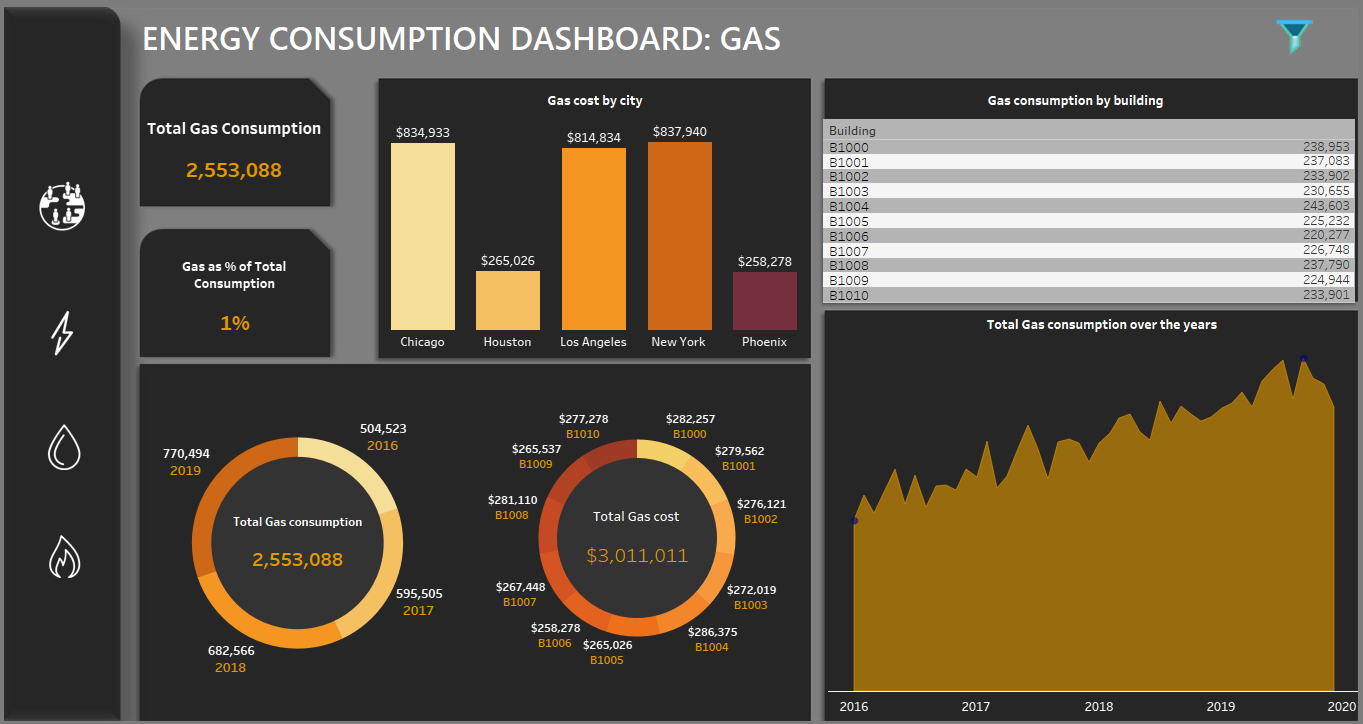

The dashboard page shown, as its layout file describes it:
{"tool":"tableau","page":{"name":"Dashboard 4","canvas":[1366,720],"ordinal":3},"visuals":[{"type":"image","param":"Image/ignite bg ener 2.jpg","box":[0,0,1366,720]},{"type":"text","box":[141,3,765,60]},{"type":"dashboard-object","box":[1268,11,56,42]},{"type":"filter","title":"gas cost by city (3)","param":"[federated.14768py0nmov6b1293c7i02sff1x].[none:City:nk]","box":[1171,49,160,157]},{"type":"text","box":[457,74,280,44]},{"type":"text","box":[835,81,485,30]},{"type":"worksheet","title":"total gas cosm (3)","mark":"Automatic","box":[142,90,189,113]},{"type":"worksheet","title":"gas cost by city (3)","mark":"Automatic","rows":["Total Gas cost"],"cols":["City"],"box":[382,112,429,240]},{"type":"worksheet","title":"Sheet 12 (2)","mark":"Automatic","rows":["Building"],"box":[825,115,532,184]},{"type":"dashboard-object","box":[11,176,106,52]},{"type":"worksheet","title":"gascosm  per (2)","mark":"Automatic","box":[141,233,192,120]},{"type":"text","box":[893,299,422,42]},{"type":"dashboard-object","box":[15,303,104,52]},{"type":"worksheet","title":"gas trend (2)","mark":"Area","rows":["Gas Consumption","min max ele cons (copy)_1465640238118576131"],"cols":["Date"],"box":[830,335,530,382]},{"type":"worksheet","title":"gas cst (3)","mark":"Pie","rows":["Calculation_1600185276623892486","Calculation_1600185276623892486"],"box":[465,356,348,356]},{"type":"worksheet","title":"Gas","mark":"Pie","rows":["Calculation_1600185276623892486","Calculation_1600185276623892486"],"box":[139,363,321,352]},{"type":"dashboard-object","box":[9,420,114,46]},{"type":"dashboard-object","box":[14,531,105,43]}]}

Visuals, with their boxes in screenshot pixels (x1, y1, x2, y2), scaled from the page's 1366x720 canvas onto the 1363x724 screenshot:
image: [0, 0, 1362, 723]
text: [141, 3, 904, 63]
dashboard-object: [1265, 11, 1321, 53]
"gas cost by city (3)" filter: [1168, 49, 1328, 207]
text: [456, 74, 735, 119]
text: [833, 81, 1317, 112]
"total gas cosm (3)" worksheet: [142, 90, 330, 204]
"gas cost by city (3)" worksheet: [381, 113, 809, 354]
"Sheet 12 (2)" worksheet: [823, 116, 1354, 301]
dashboard-object: [11, 177, 117, 229]
"gascosm  per (2)" worksheet: [141, 234, 332, 355]
text: [891, 301, 1312, 343]
dashboard-object: [15, 305, 119, 357]
"gas trend (2)" worksheet (Area marks): [828, 337, 1357, 721]
"gas cst (3)" worksheet (Pie marks): [464, 358, 811, 716]
"Gas" worksheet (Pie marks): [139, 365, 459, 719]
dashboard-object: [9, 422, 123, 469]
dashboard-object: [14, 534, 119, 577]
